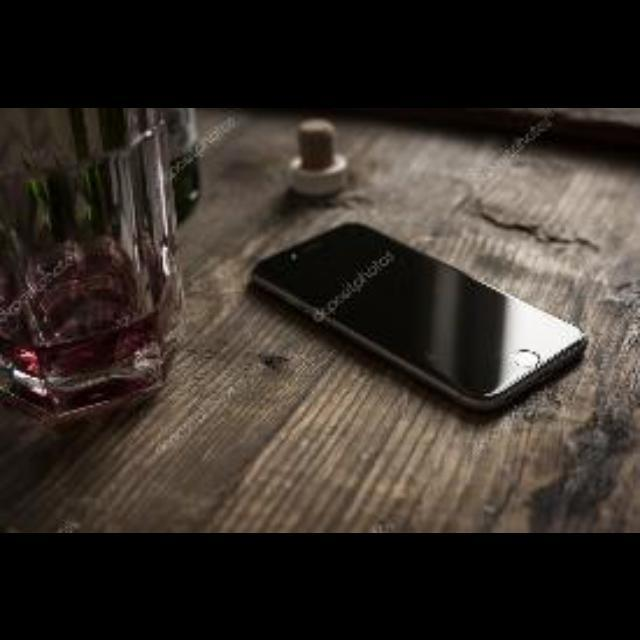PhoneUse: (232, 220, 568, 412)
